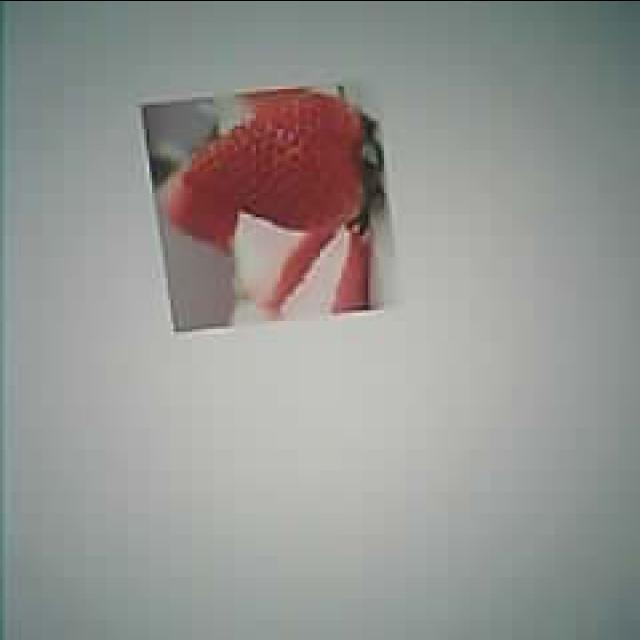strawberry: (185, 92, 362, 230)
